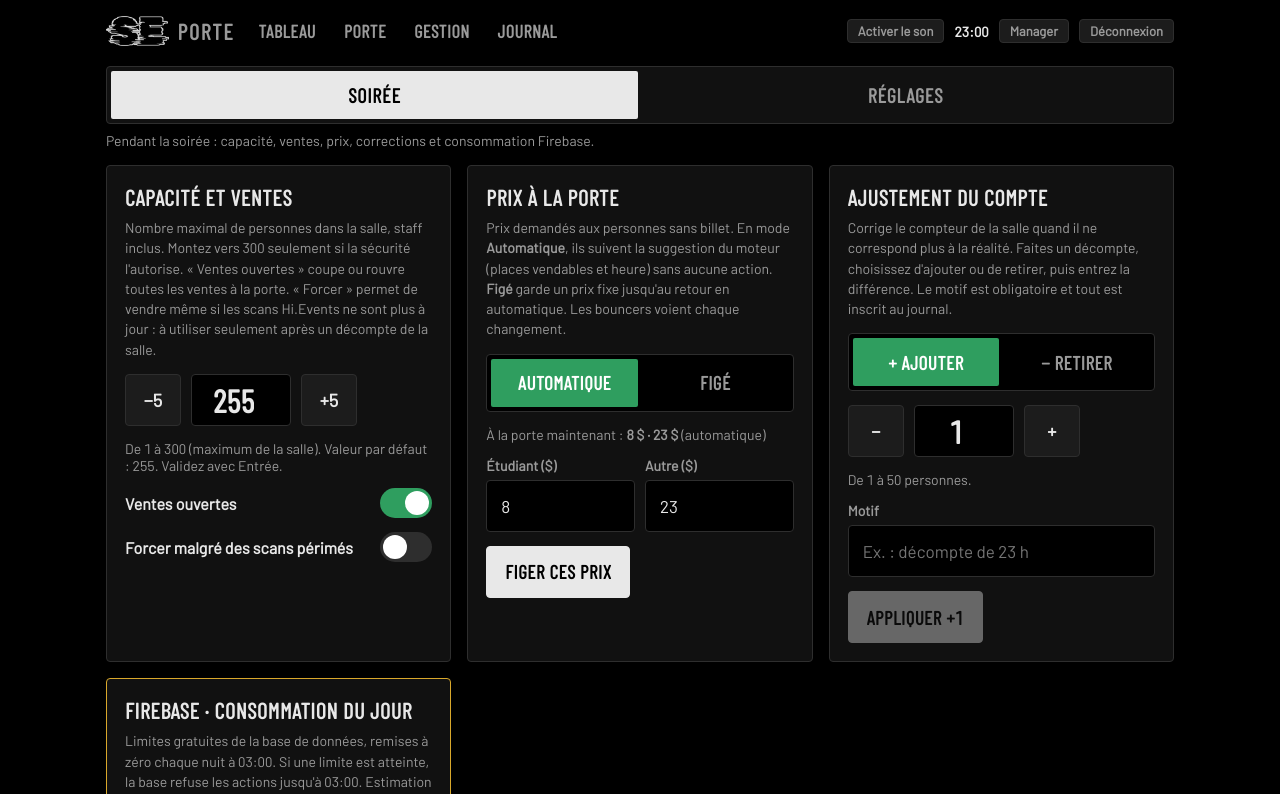
Test case: Écran Gestion › prix : passage en mode figé
Expected: the text "À la porte maintenant : 8 $ · 23 $ (automatique)" is shown, x1=486 y1=426 x2=794 y2=443
Click the button "Figé": (715, 383) x1=642 y1=359 x2=789 y2=407
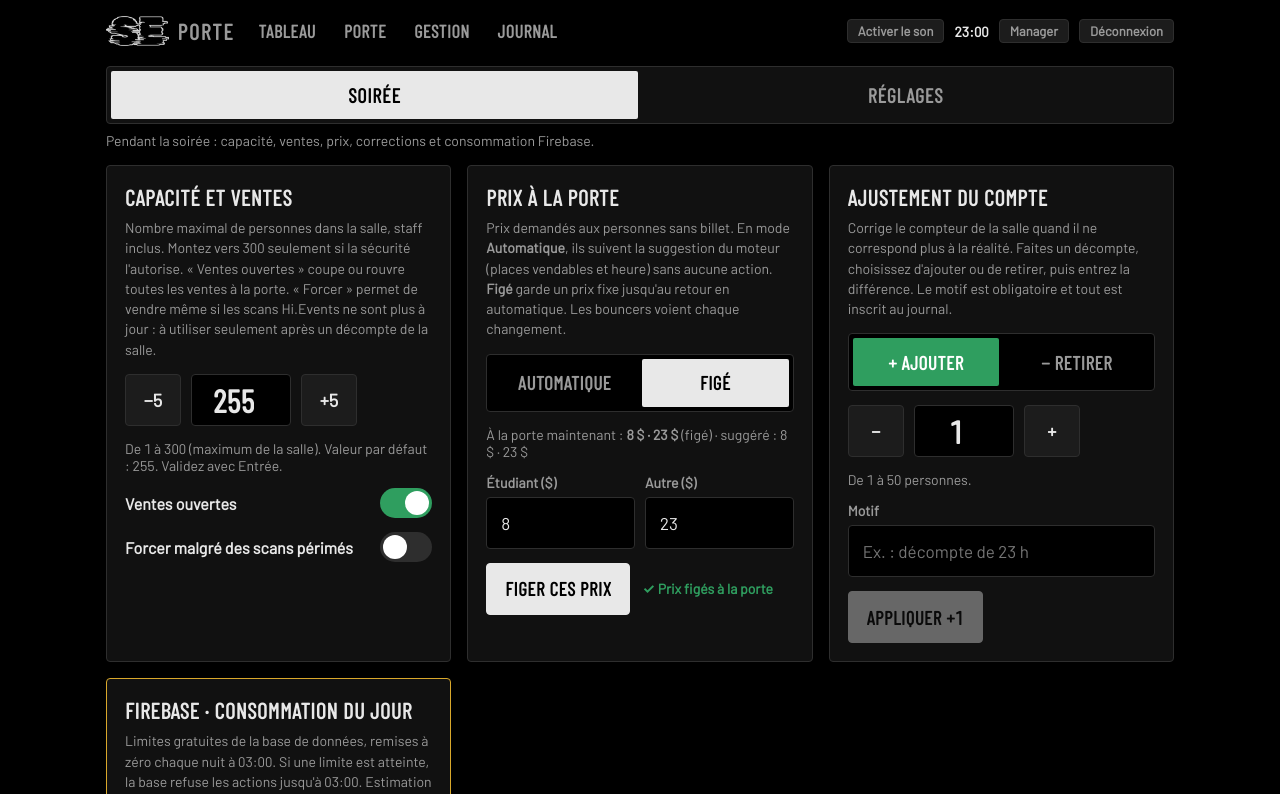
Expected: the text "(figé)" is shown, x1=486 y1=426 x2=794 y2=460
